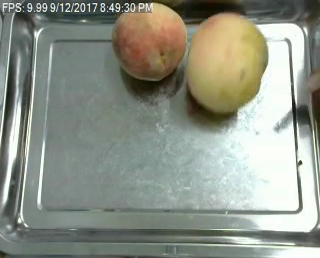Peach: (185, 11, 269, 113), (112, 1, 187, 81)
